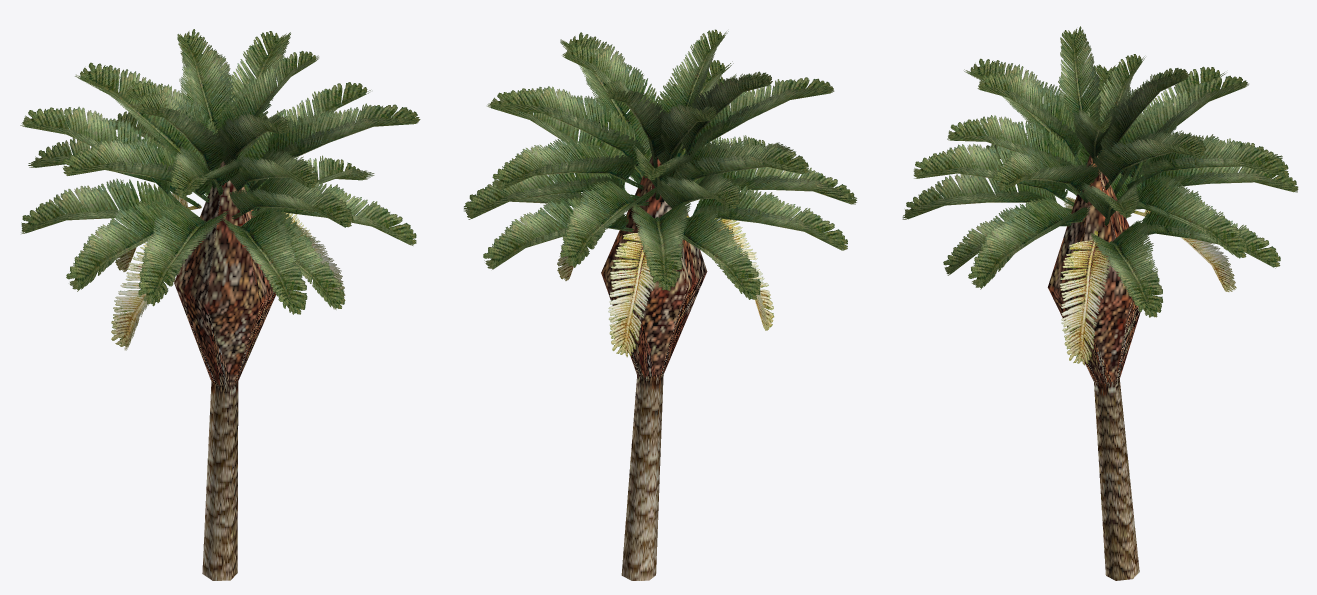
Rendered from cretan_date_04.glb.
3 renders of one model, left to right at view 1: azimuth 30°, elevation 25°; view 2: azimuth 150°, elevation 25°; view 3: azimuth 270°, elevation 25°, orthographic. The views are drawn at different scales.
Bounding box in the file's own units: 7.92 × 11.23 × 8.05.
Materials: 1 (1 with a texture image).
